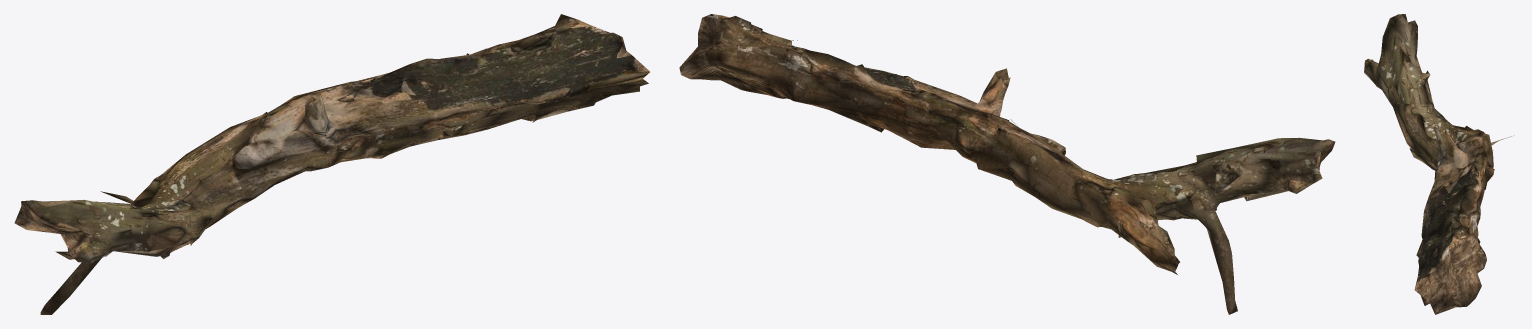
File: dead_tree_trunk_02.glb
3 views of the same model, side by side, from view 1: azimuth 30°, elevation 25°; view 2: azimuth 150°, elevation 25°; view 3: azimuth 270°, elevation 25° (orthographic). The views are drawn at different scales.
Visible parts, largest first — view 1: dead_tree_trunk_02; view 2: dead_tree_trunk_02; view 3: dead_tree_trunk_02.
Part boxes in pixels (x1,y1,x2,y2): dead_tree_trunk_02: (14, 14, 649, 314); dead_tree_trunk_02: (679, 14, 1335, 314); dead_tree_trunk_02: (1364, 14, 1511, 314).
Bounding box in the file's own units: 4.05 × 1.04 × 1.04.
Materials: 1 (1 with a texture image).
